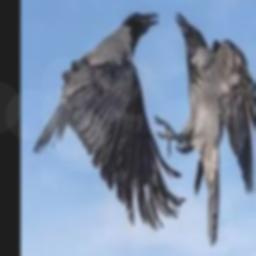Crow: (33, 11, 185, 230), (155, 11, 256, 244)
